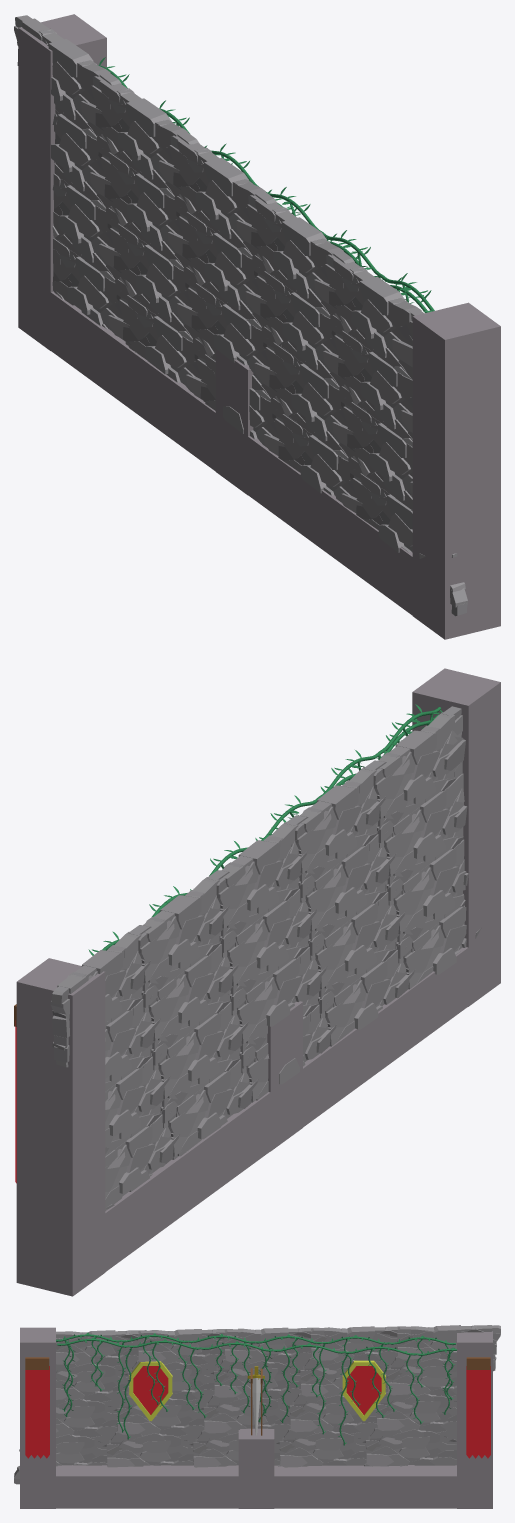
Rendered from стены замок 2.fbx.
3 views of the same model, one above another, from view 1: azimuth 30°, elevation 25°; view 2: azimuth 150°, elevation 25°; view 3: azimuth 270°, elevation 25° (orthographic). The views are drawn at different scales.
Visible parts, largest first — view 1: стены; view 2: стены; view 3: стены.
Boxes of the visible parts, left/top/right/bottom form: стены: left=14, top=14, right=500, bottom=639; стены: left=14, top=668, right=500, bottom=1296; стены: left=14, top=1325, right=500, bottom=1508.
Size of the model in its own units: 109 by 514 by 1337.
